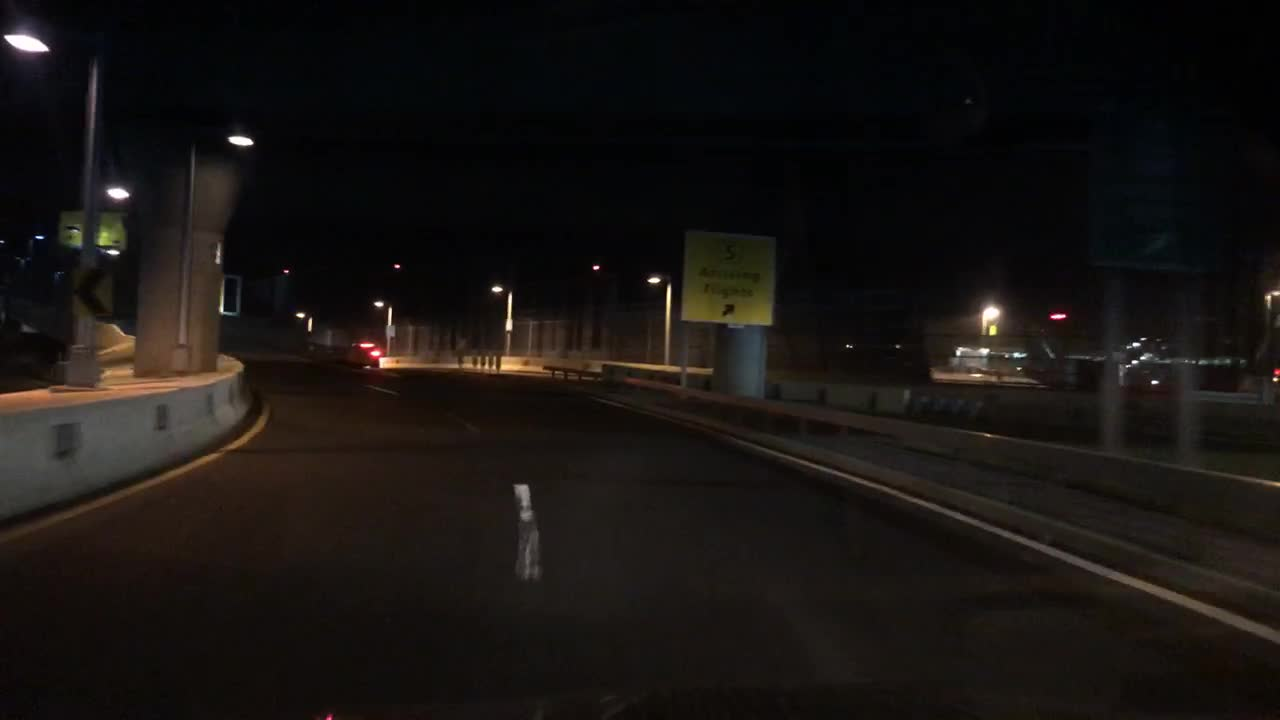car: (345, 341, 384, 365)
traffic sign: (679, 229, 777, 328), (56, 209, 129, 255)
truck: (945, 345, 1027, 377)
